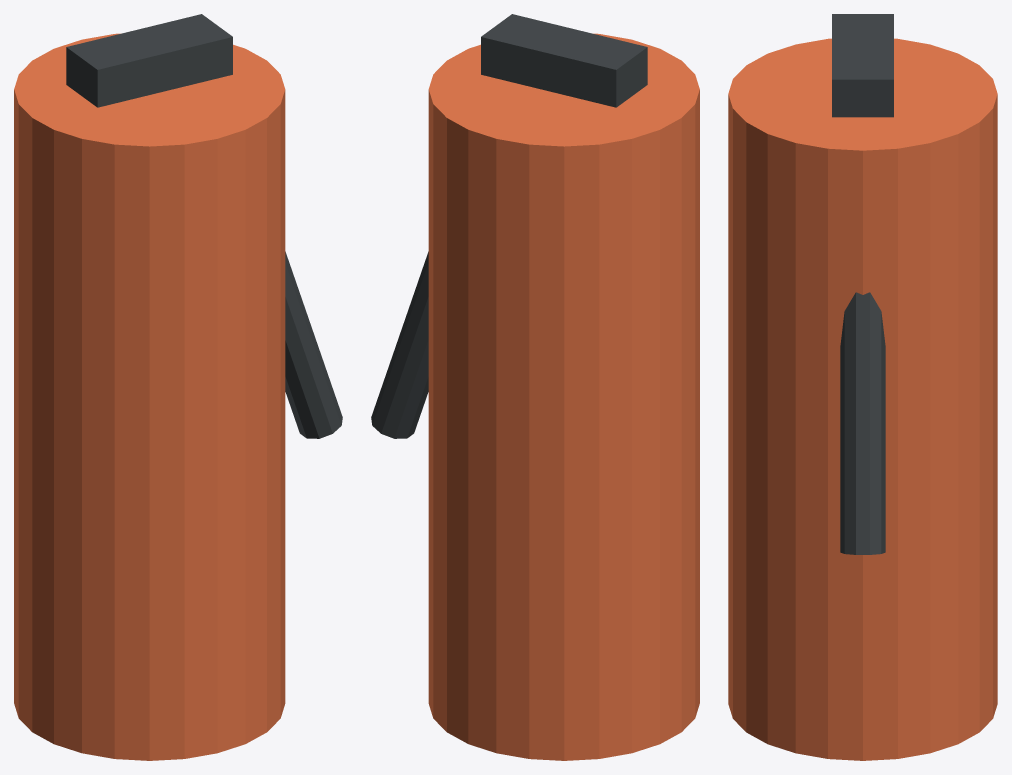
Rendered from endurance-and-gt-paddock-extinguisher-d22b8443__14945.glb.
The picture shows the model from 3 angles, left to right: view 1: azimuth 30°, elevation 25°; view 2: azimuth 150°, elevation 25°; view 3: azimuth 270°, elevation 25°; orthographic projection.
Visible parts, largest first — view 1: extinguisher; view 2: extinguisher; view 3: extinguisher.
Part boxes in pixels (left/top/right/bottom): extinguisher: left=14, top=14, right=342, bottom=760; extinguisher: left=371, top=14, right=699, bottom=760; extinguisher: left=728, top=14, right=997, bottom=760.
Bounding box in the file's own units: 0.3398 × 0.7 × 0.26.
